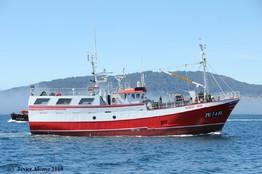otherboat: (20, 34, 243, 143)
